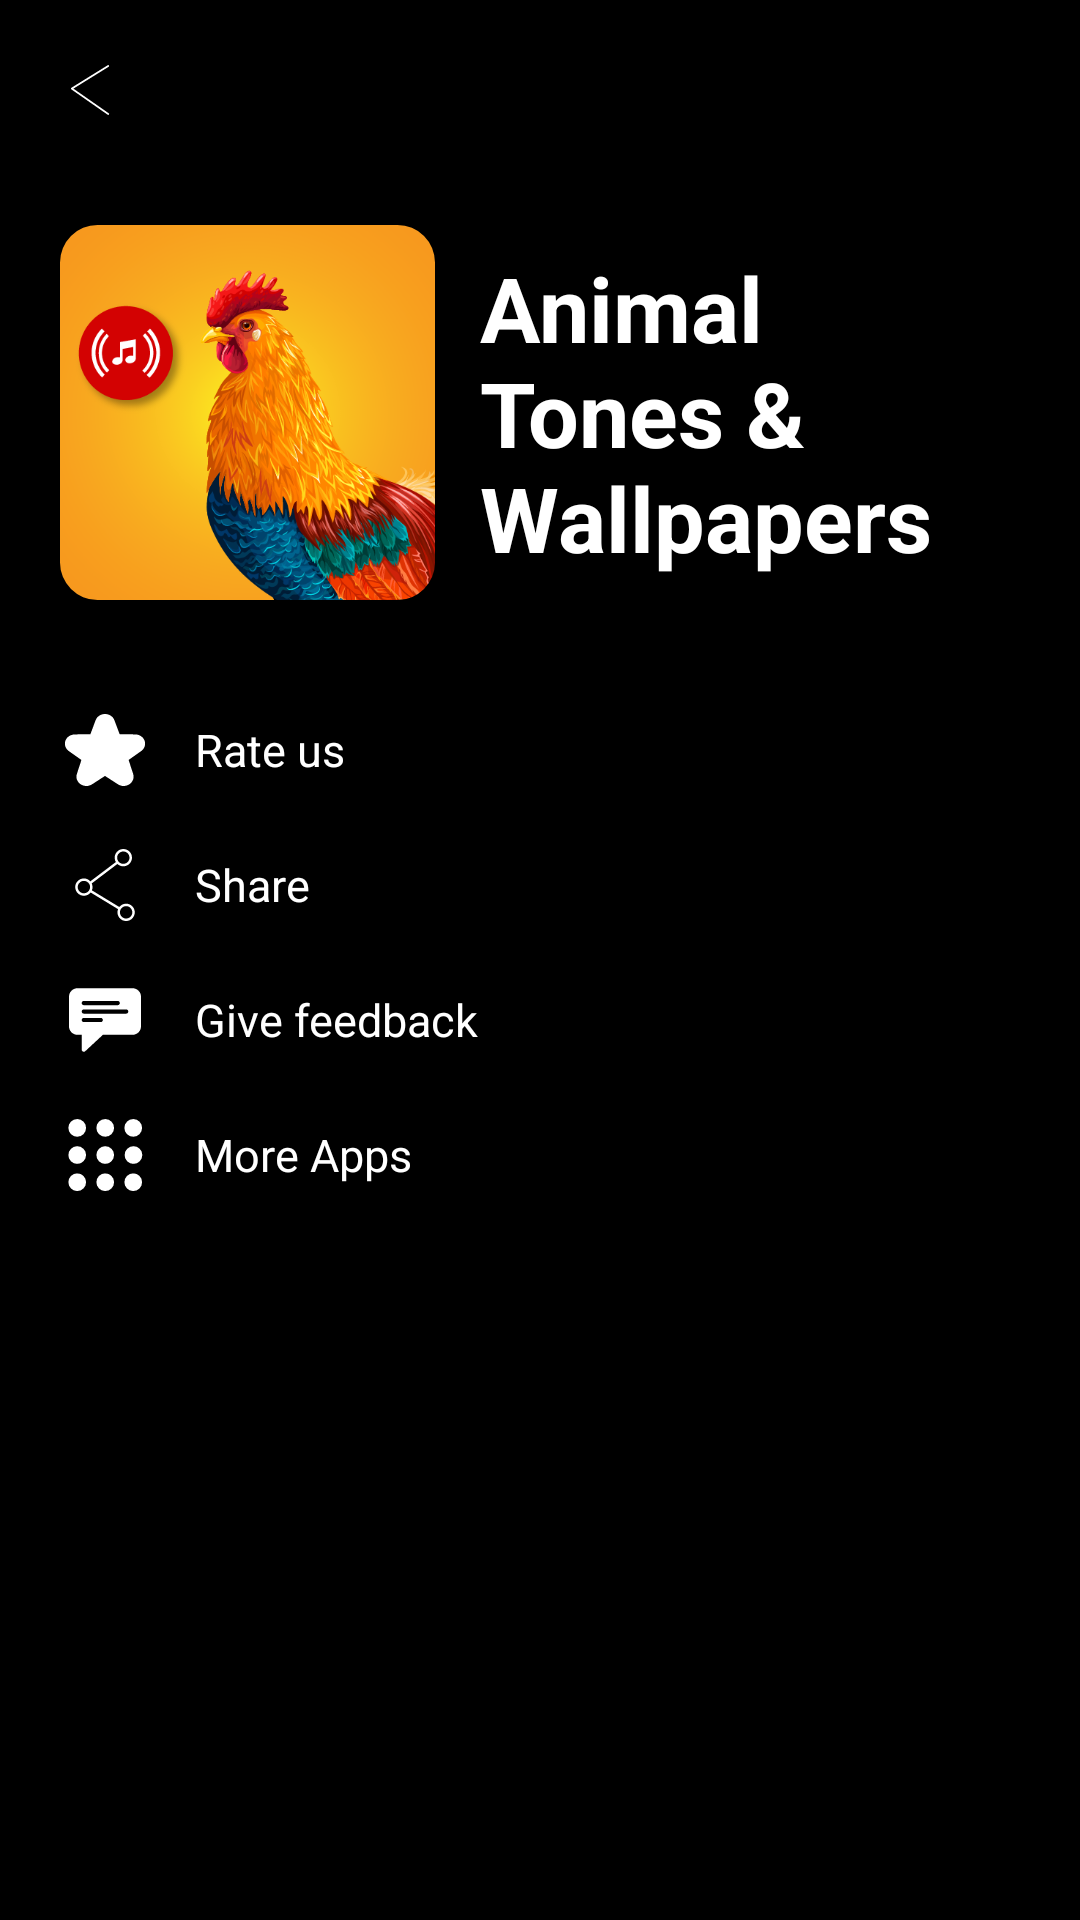

Screen size 1080*1920. Icon name, then its box in pixels as region(x1, y1, x2, y2):
back: region(71, 65, 109, 115)
menu: region(68, 1119, 143, 1191)
review: region(69, 988, 141, 1052)
